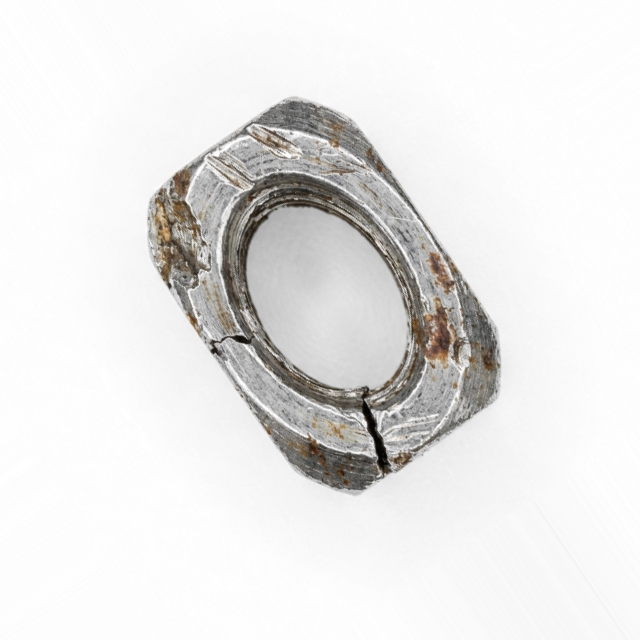defect: (351, 381, 399, 483), (196, 315, 277, 361), (239, 116, 304, 163), (202, 143, 256, 192), (438, 322, 484, 373)
